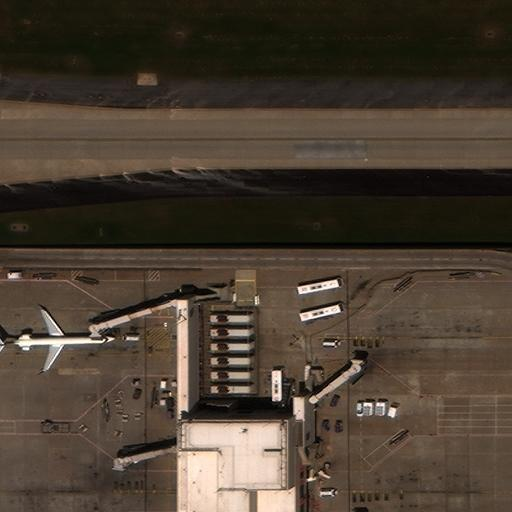Medium Civil Transport: (0, 305, 118, 371)
